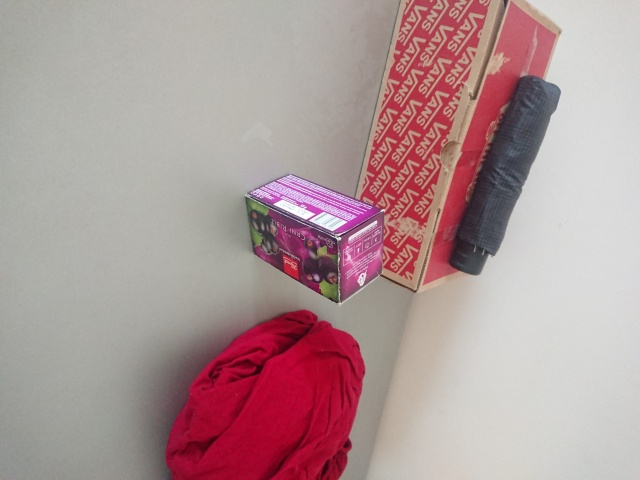Franck Black Currant Tea 60g: (242, 170, 387, 308)
